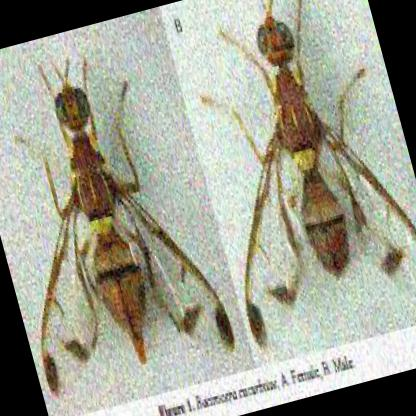fruit fly: (41, 63, 233, 404), (245, 0, 416, 354)
